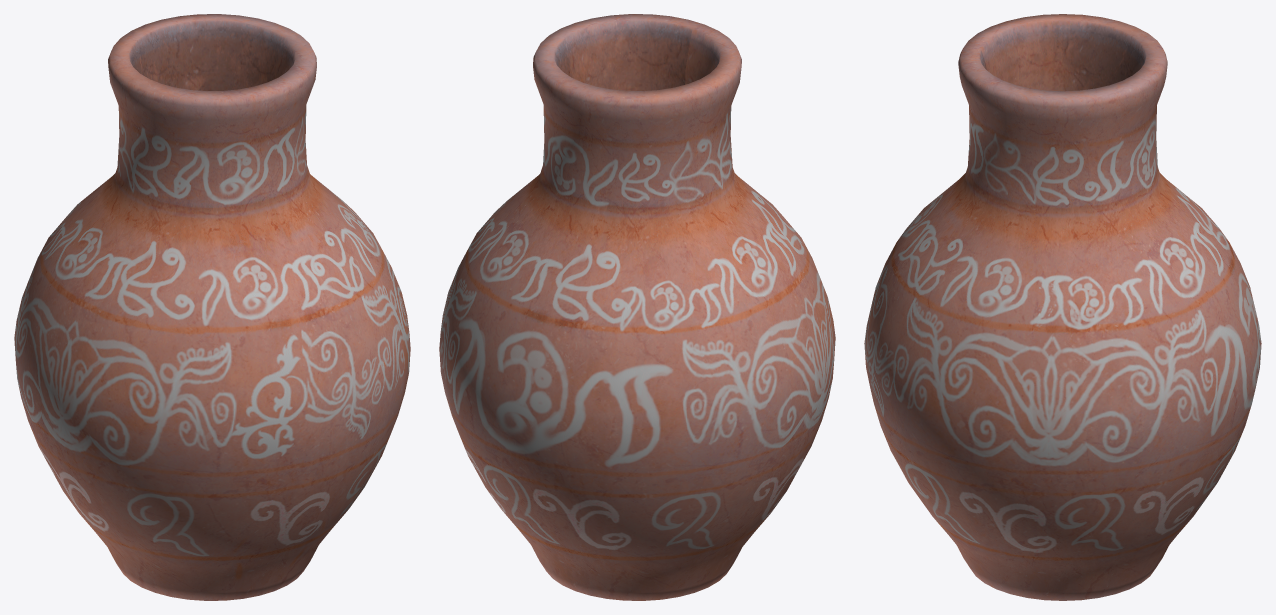
File: koza.gltf
The picture shows the model from 3 angles, left to right: view 1: azimuth 30°, elevation 25°; view 2: azimuth 150°, elevation 25°; view 3: azimuth 270°, elevation 25°; orthographic projection.
Visible parts, largest first — view 1: Ko'zaLow_Cylinder; view 2: Ko'zaLow_Cylinder; view 3: Ko'zaLow_Cylinder.
Part boxes in pixels (left/top/right/bottom): Ko'zaLow_Cylinder: left=14, top=14, right=410, bottom=600; Ko'zaLow_Cylinder: left=439, top=14, right=835, bottom=600; Ko'zaLow_Cylinder: left=864, top=14, right=1261, bottom=600.
Size of the model in its own units: 2.63 by 3.7 by 2.63.
Materials: 1 (1 with a texture image).
